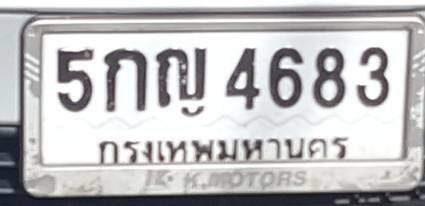num5: (53, 46, 97, 114)
txt01: (101, 46, 148, 114)
txt10: (153, 46, 207, 118)
